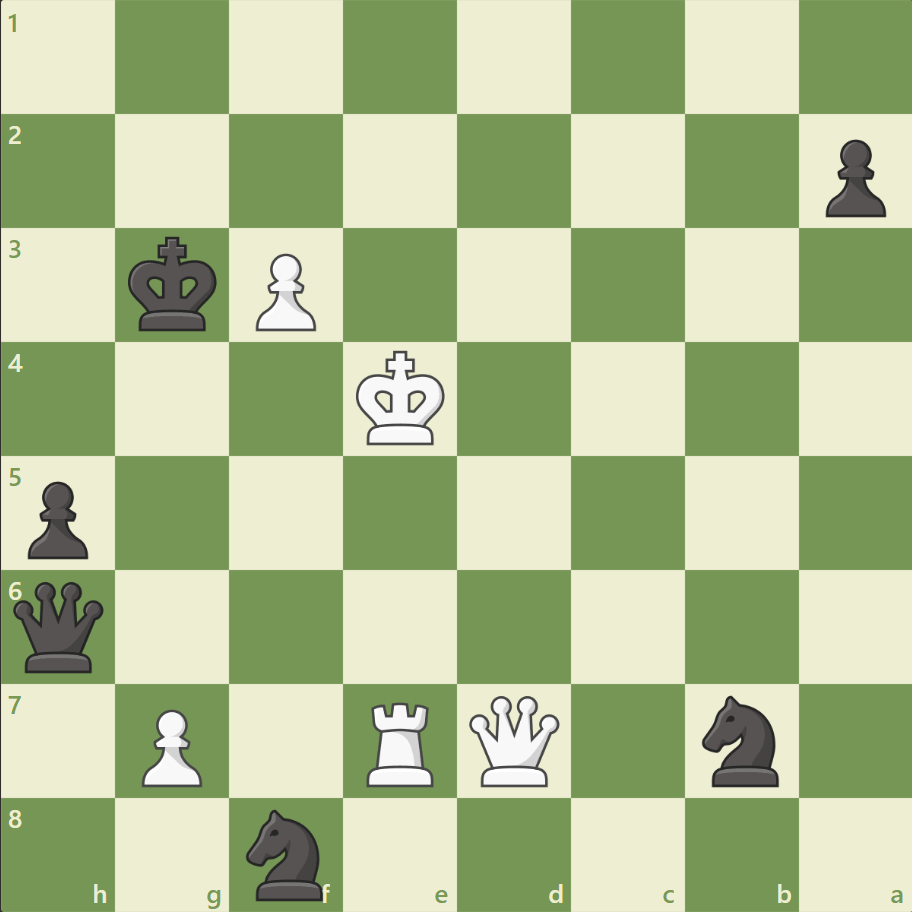K: (351, 344, 451, 452)
P: (133, 700, 208, 791), (247, 246, 322, 337)
Q: (464, 690, 563, 789)
R: (360, 693, 442, 790)
k: (124, 231, 224, 339)
n: (692, 688, 789, 791), (238, 802, 335, 904)
p: (20, 473, 95, 564), (815, 132, 889, 223)
q: (10, 576, 109, 676)
